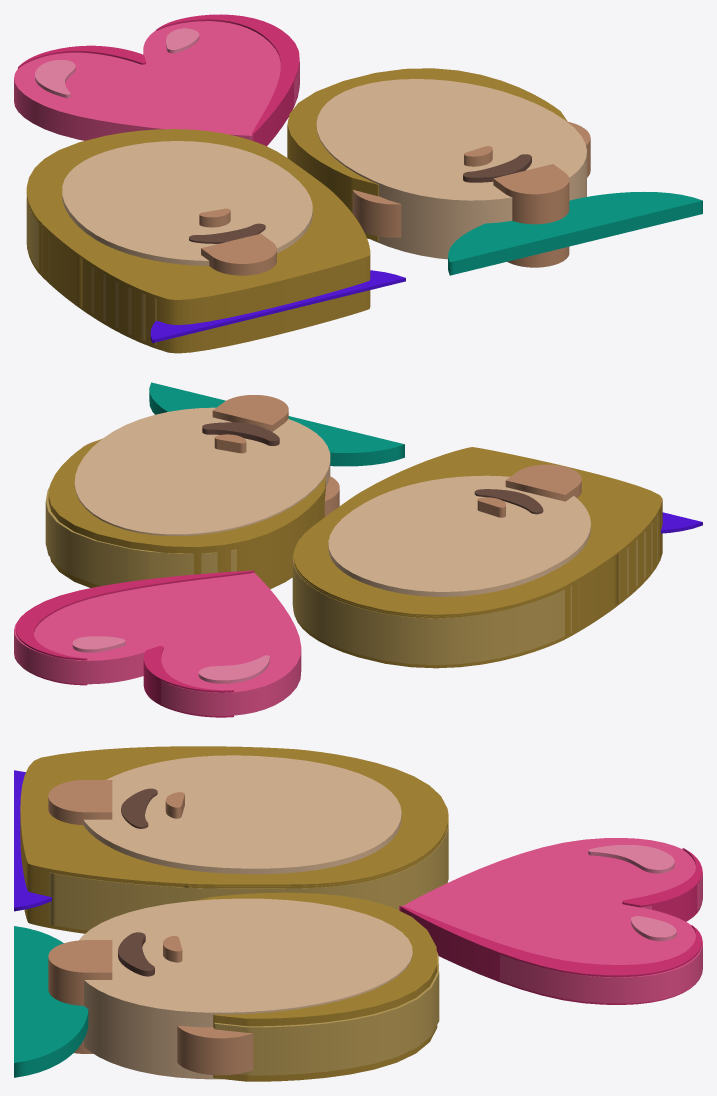
Rendered from emoji_u1f469_1f3fc_200d_2764_200d_1f468_1f3fc.glb.
The picture shows the model from 3 angles, top to bottom: view 1: azimuth 30°, elevation 25°; view 2: azimuth 150°, elevation 25°; view 3: azimuth 270°, elevation 25°; orthographic projection. The views are drawn at different scales.
Parts seen in each view (by area): view 1: emoji_u1f469_1f3fc_200d_2764_200d_1f468_1f3fc; view 2: emoji_u1f469_1f3fc_200d_2764_200d_1f468_1f3fc; view 3: emoji_u1f469_1f3fc_200d_2764_200d_1f468_1f3fc.
Boxes of the visible parts, x1=… form: emoji_u1f469_1f3fc_200d_2764_200d_1f468_1f3fc: x1=14, y1=14, x2=702, y2=353; emoji_u1f469_1f3fc_200d_2764_200d_1f468_1f3fc: x1=14, y1=382, x2=702, y2=717; emoji_u1f469_1f3fc_200d_2764_200d_1f468_1f3fc: x1=14, y1=746, x2=702, y2=1081.
Bounding box in the file's own units: 0.0346 × 0.005 × 0.0337.
